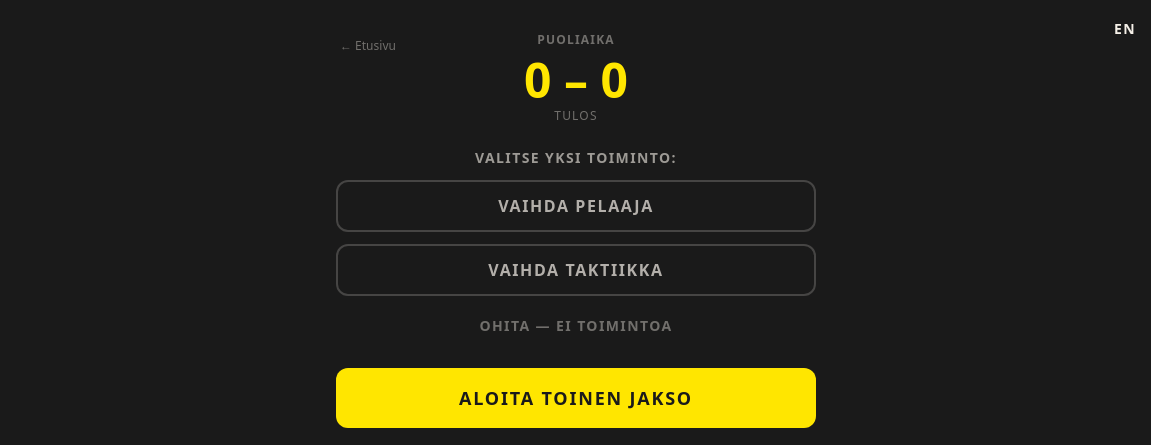
Full solo match flow (App routing) › clicking Start Second Half advances to DuelScreen (SECOND_HALF)
The image size is (1151, 445).
Click the button with test id "start-second-half-btn": [576, 398] box [336, 368, 816, 428]
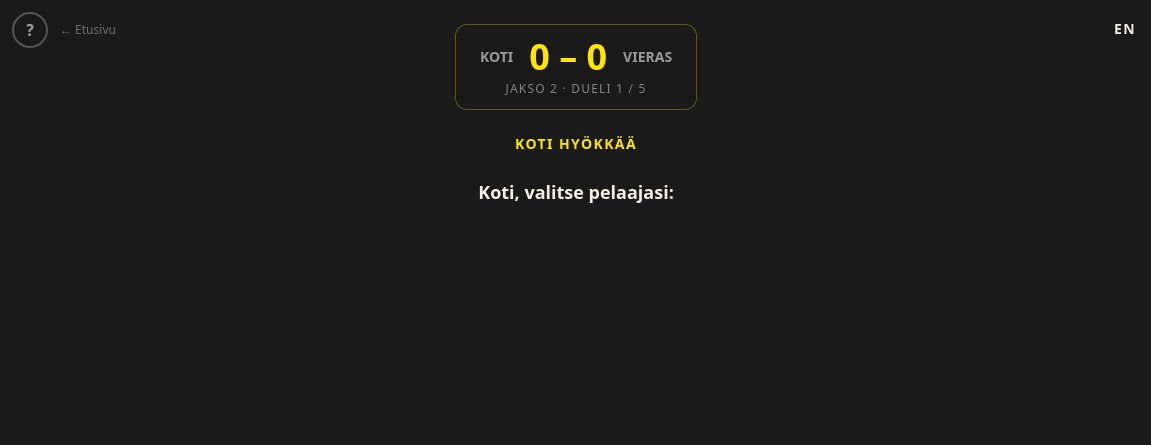
expect the text "Koti, valitse pelaajasi:" is shown: met, box [478, 178, 674, 206]
